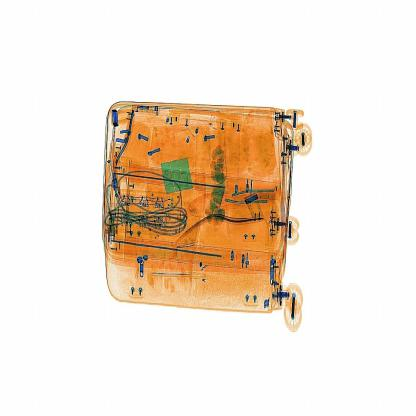wrench: (147, 265, 204, 281)
